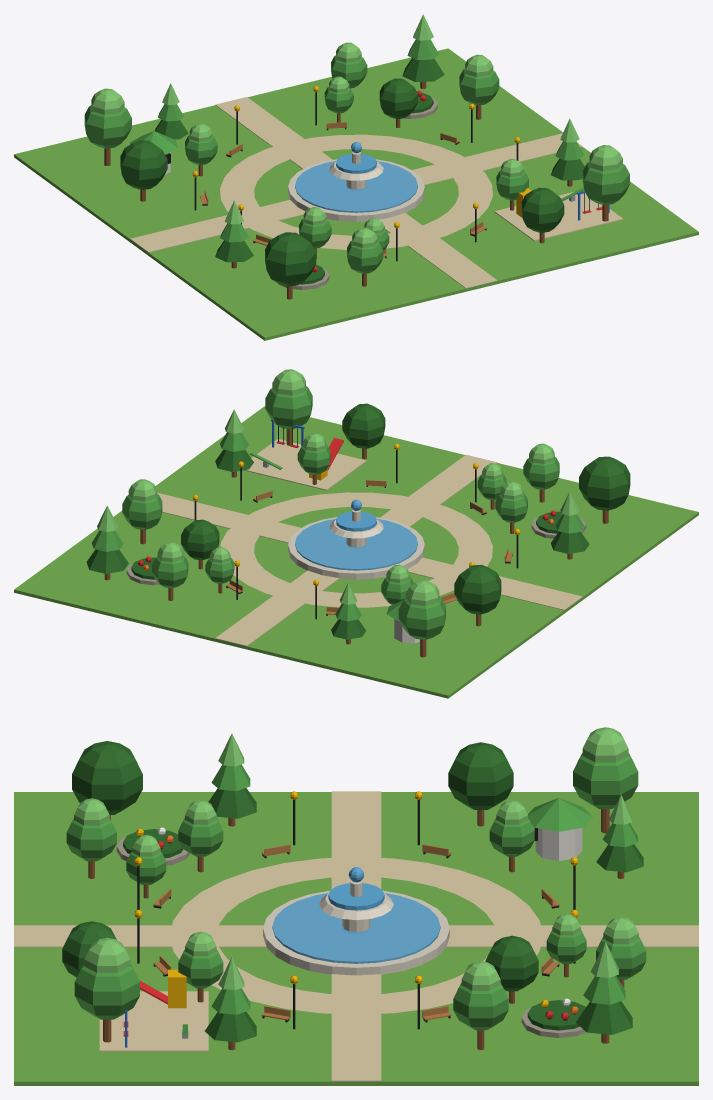
The model's file is park.glb.
3 views of the same model, one above another, from view 1: azimuth 30°, elevation 25°; view 2: azimuth 150°, elevation 25°; view 3: azimuth 270°, elevation 25° (orthographic). The views are drawn at different scales.
Visible parts, largest first — view 1: park_mat_6fae4c, park_mat_d8c9a3, park_mat_4f9d47, park_mat_2f6b2b, park_mat_7cc46a, park_mat_58a7d6 (×2), park_mat_d9d2c3, park_mat_8a5a33, park_mat_b57b45, park_mat_1e1e22, park_mat_a39c8c; view 2: park_mat_6fae4c, park_mat_d8c9a3, park_mat_4f9d47, park_mat_2f6b2b, park_mat_7cc46a, park_mat_58a7d6 (×2), park_mat_d9d2c3, park_mat_8a5a33, park_mat_b57b45, park_mat_1e1e22; view 3: park_mat_6fae4c, park_mat_d8c9a3, park_mat_4f9d47, park_mat_2f6b2b, park_mat_7cc46a, park_mat_58a7d6 (×2), park_mat_d9d2c3, park_mat_b57b45, park_mat_8a5a33, park_mat_e6e3dc, park_mat_f2b705, park_mat_1e1e22 (+1 smaller).
Boxes of the visible parts, x1,y1,x2,y2 form: park_mat_6fae4c: (14, 48, 698, 340); park_mat_d8c9a3: (130, 97, 623, 288); park_mat_4f9d47: (84, 39, 629, 273); park_mat_2f6b2b: (120, 58, 584, 286); park_mat_7cc46a: (91, 14, 622, 247); park_mat_58a7d6 (×2): (295, 153, 417, 212); park_mat_d9d2c3: (288, 152, 424, 221); park_mat_8a5a33: (104, 82, 608, 299); park_mat_b57b45: (199, 122, 486, 256); park_mat_1e1e22: (165, 92, 598, 261); park_mat_a39c8c: (278, 97, 437, 289); park_mat_6fae4c: (14, 406, 698, 698); park_mat_d8c9a3: (157, 439, 582, 646); park_mat_4f9d47: (92, 386, 584, 639); park_mat_2f6b2b: (86, 403, 630, 639); park_mat_7cc46a: (97, 369, 579, 606); park_mat_58a7d6 (×2): (295, 511, 417, 570); park_mat_d9d2c3: (288, 509, 424, 579); park_mat_8a5a33: (104, 429, 608, 657); park_mat_b57b45: (226, 480, 513, 614); park_mat_1e1e22: (194, 426, 518, 619); park_mat_6fae4c: (14, 792, 698, 1085); park_mat_d8c9a3: (14, 791, 698, 1081); park_mat_4f9d47: (66, 753, 646, 1034); park_mat_2f6b2b: (62, 741, 643, 1042); park_mat_7cc46a: (74, 727, 638, 990); park_mat_58a7d6 (×2): (272, 883, 440, 963); park_mat_d9d2c3: (263, 880, 449, 975); park_mat_b57b45: (153, 844, 559, 1020); park_mat_8a5a33: (88, 809, 624, 1050); park_mat_e6e3dc: (535, 828, 582, 860); park_mat_f2b705: (134, 791, 578, 1008); park_mat_1e1e22: (137, 799, 575, 1029).
Size of the model in its own units: 44 by 7.54 by 44.
